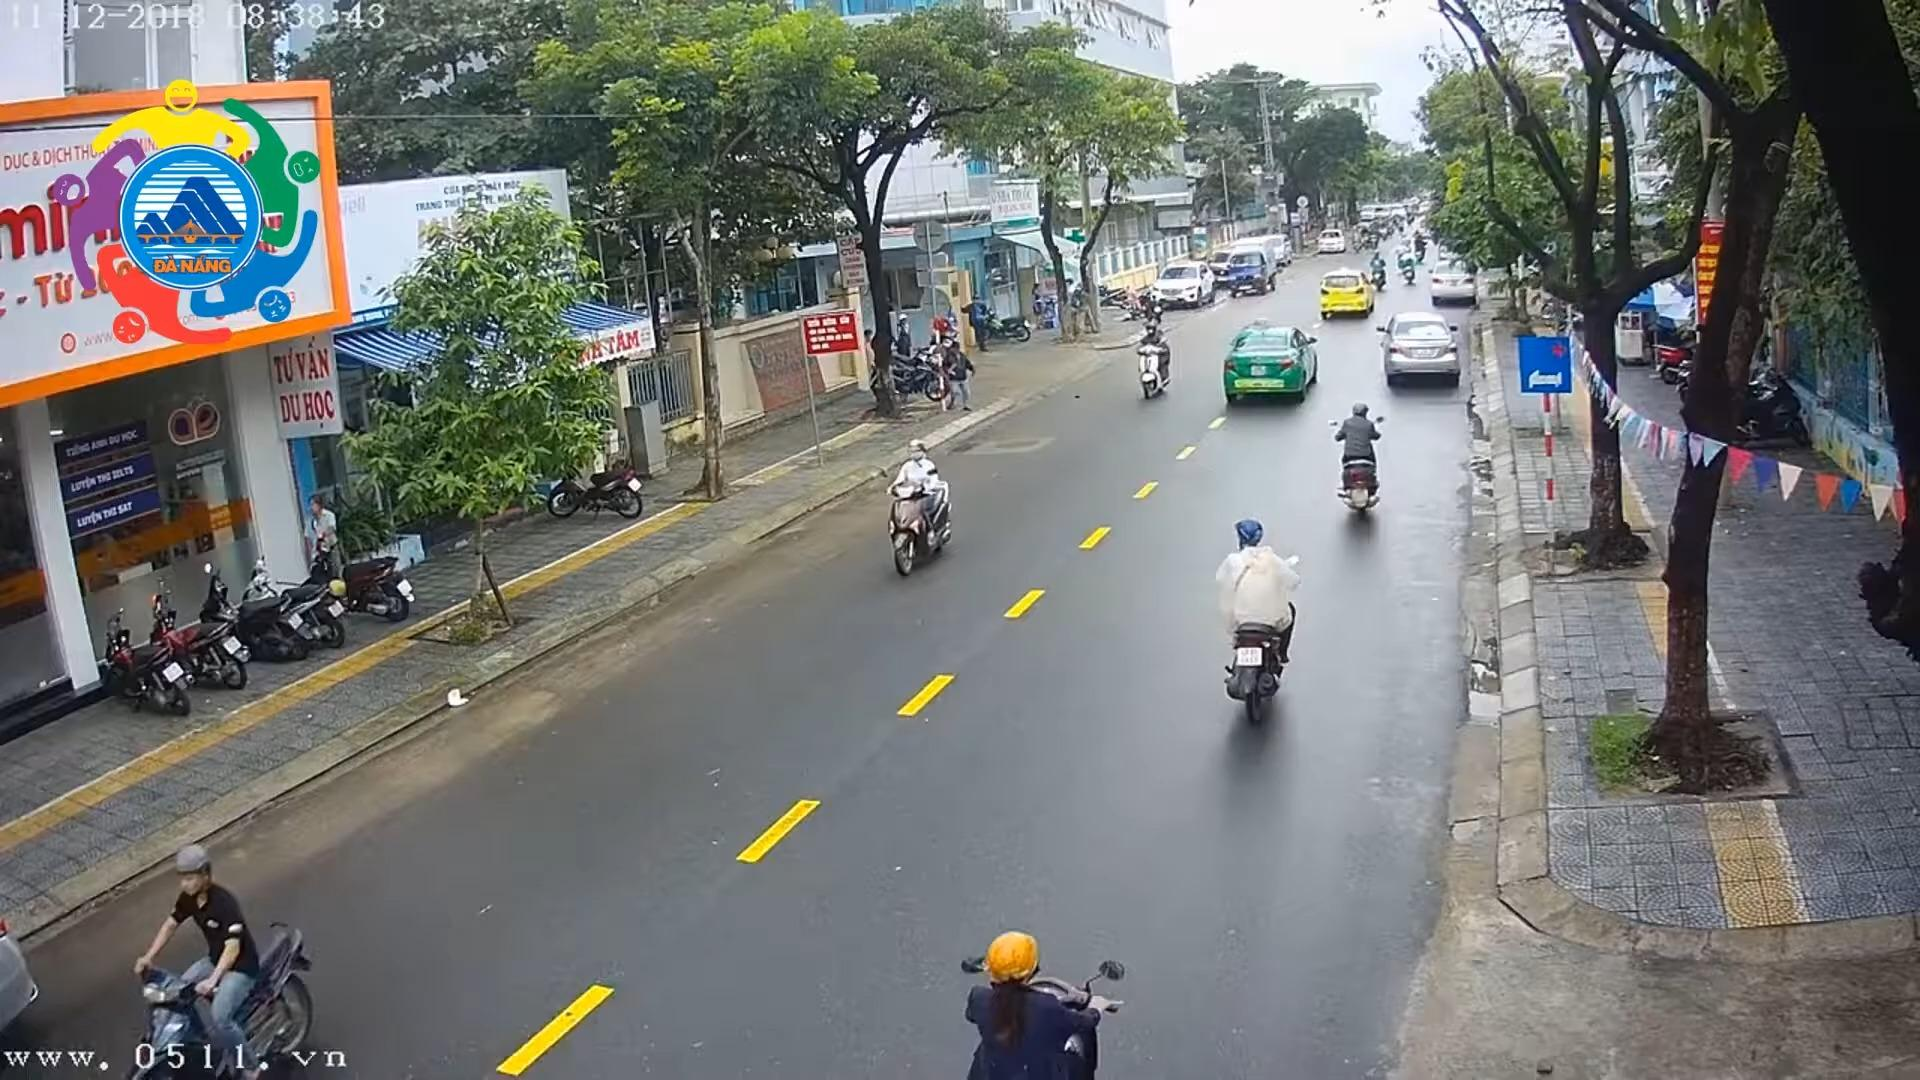car: (1221, 315, 1319, 406), (1377, 301, 1470, 382), (1316, 261, 1378, 322), (1154, 253, 1217, 310), (1425, 251, 1485, 307), (1313, 222, 1354, 256)
motorcycle: (104, 833, 338, 1080), (944, 907, 1146, 1080), (1205, 502, 1329, 742), (870, 434, 972, 585), (301, 526, 415, 630), (199, 559, 311, 662), (237, 551, 348, 654), (148, 578, 247, 692), (98, 605, 186, 721), (542, 438, 647, 525), (1328, 394, 1398, 525), (1129, 307, 1183, 402), (877, 347, 957, 402), (967, 306, 1036, 345), (1367, 249, 1387, 295), (1400, 248, 1418, 287), (1411, 231, 1429, 265), (1365, 220, 1382, 253), (1348, 223, 1365, 255)
truck: (1225, 235, 1276, 298)
